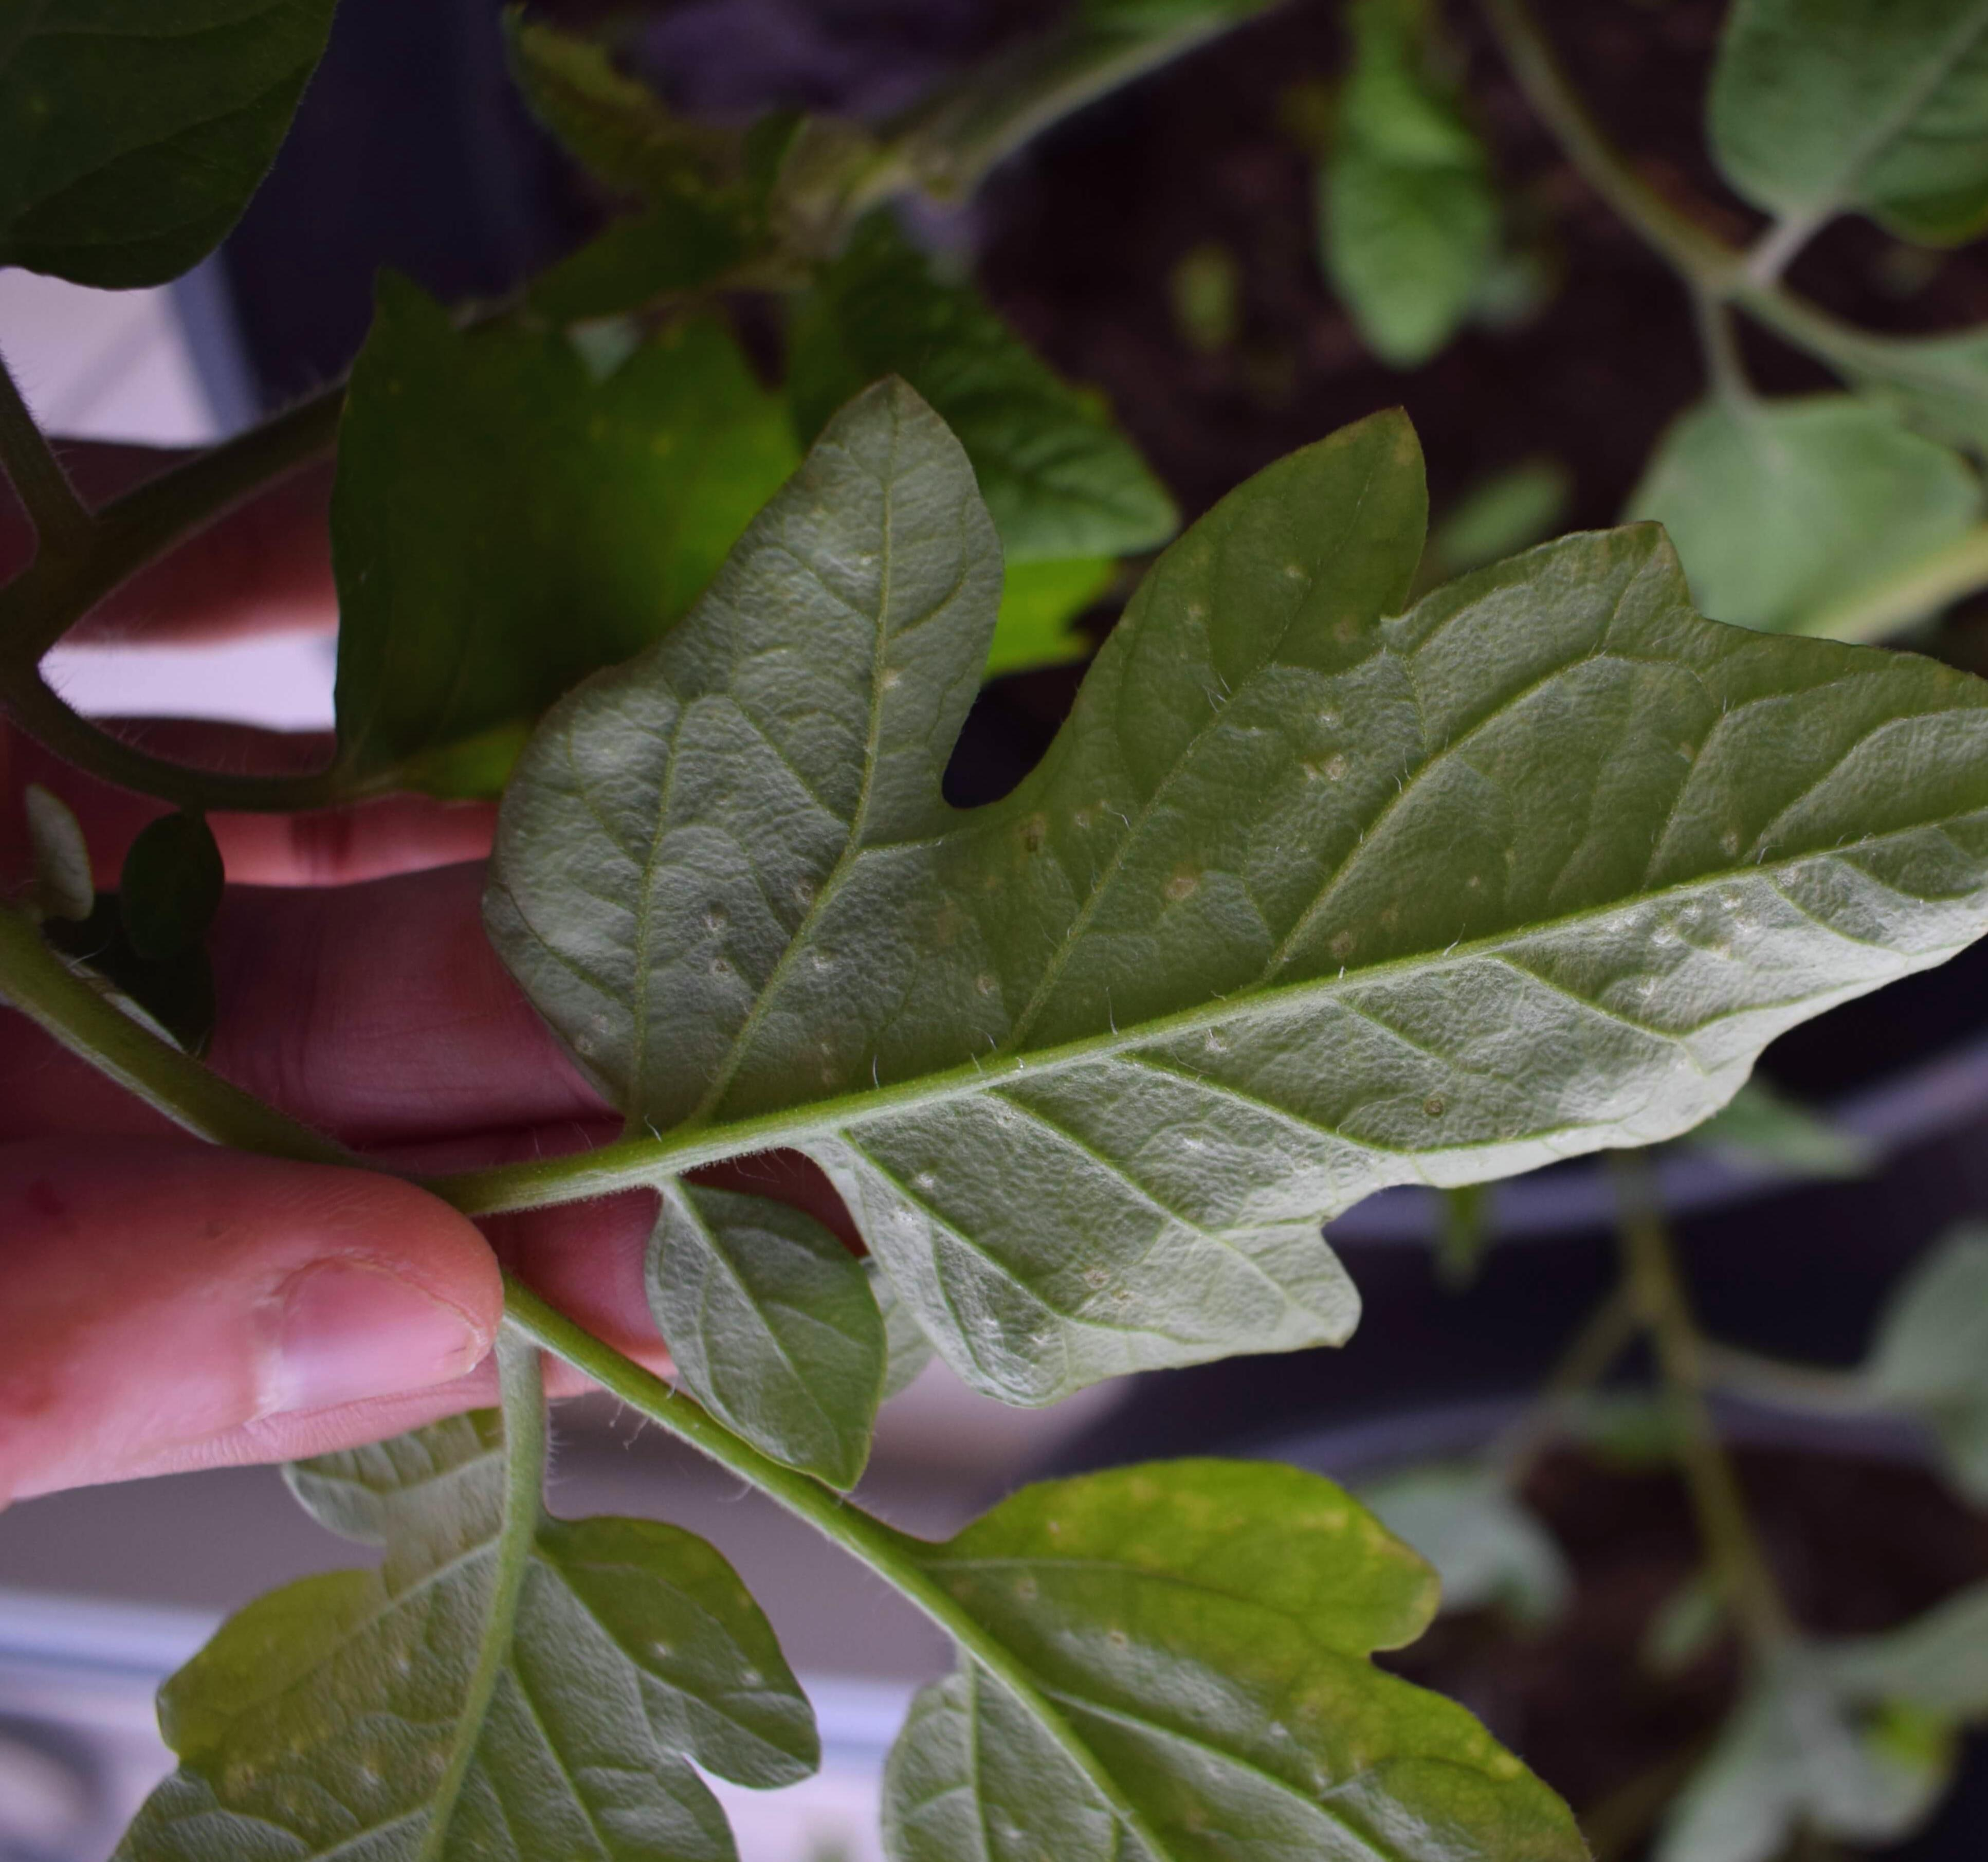Tomato mold leaf: (534, 376, 1988, 1395), (882, 1444, 1669, 1862), (61, 1564, 842, 1862), (1662, 0, 1988, 255)
